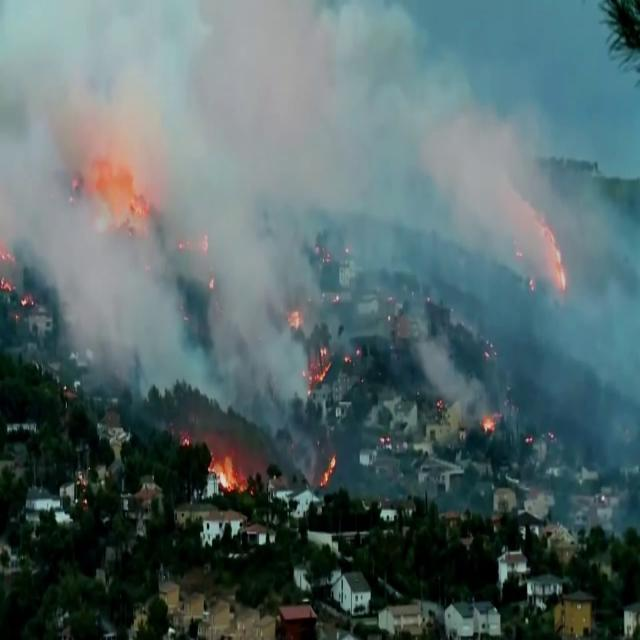Fire: (84, 137, 152, 234), (204, 441, 252, 503)
Smoke: (0, 0, 338, 415), (489, 81, 640, 487)
